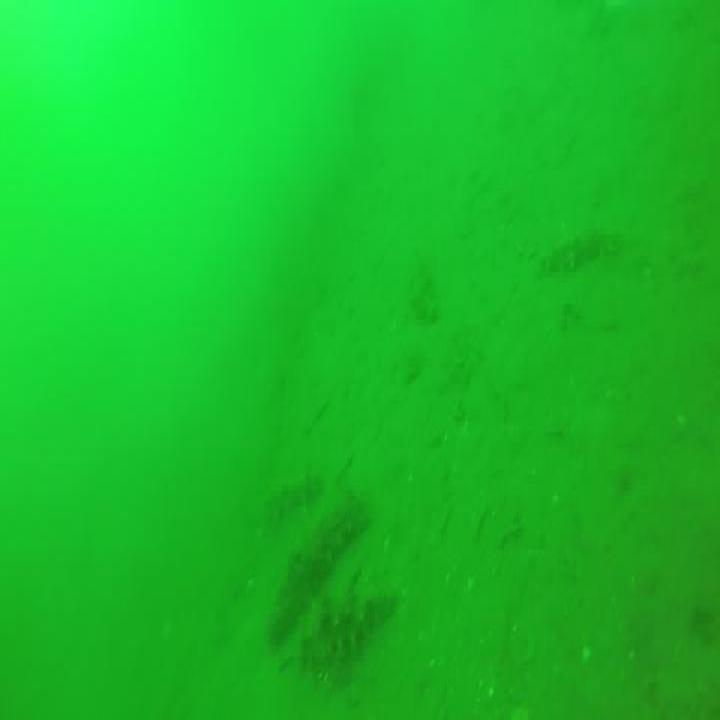holothurian: (245, 496, 365, 635), (302, 588, 397, 646), (537, 228, 621, 272), (249, 461, 320, 510), (410, 263, 438, 320)
